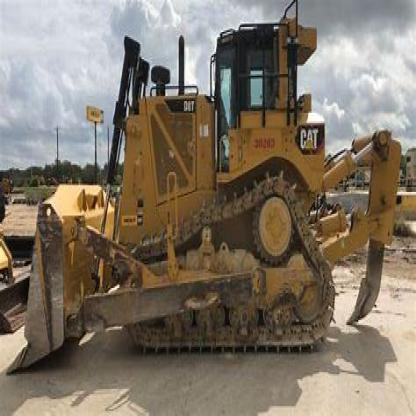bull_dozer/loader/grader: (20, 8, 407, 408)
